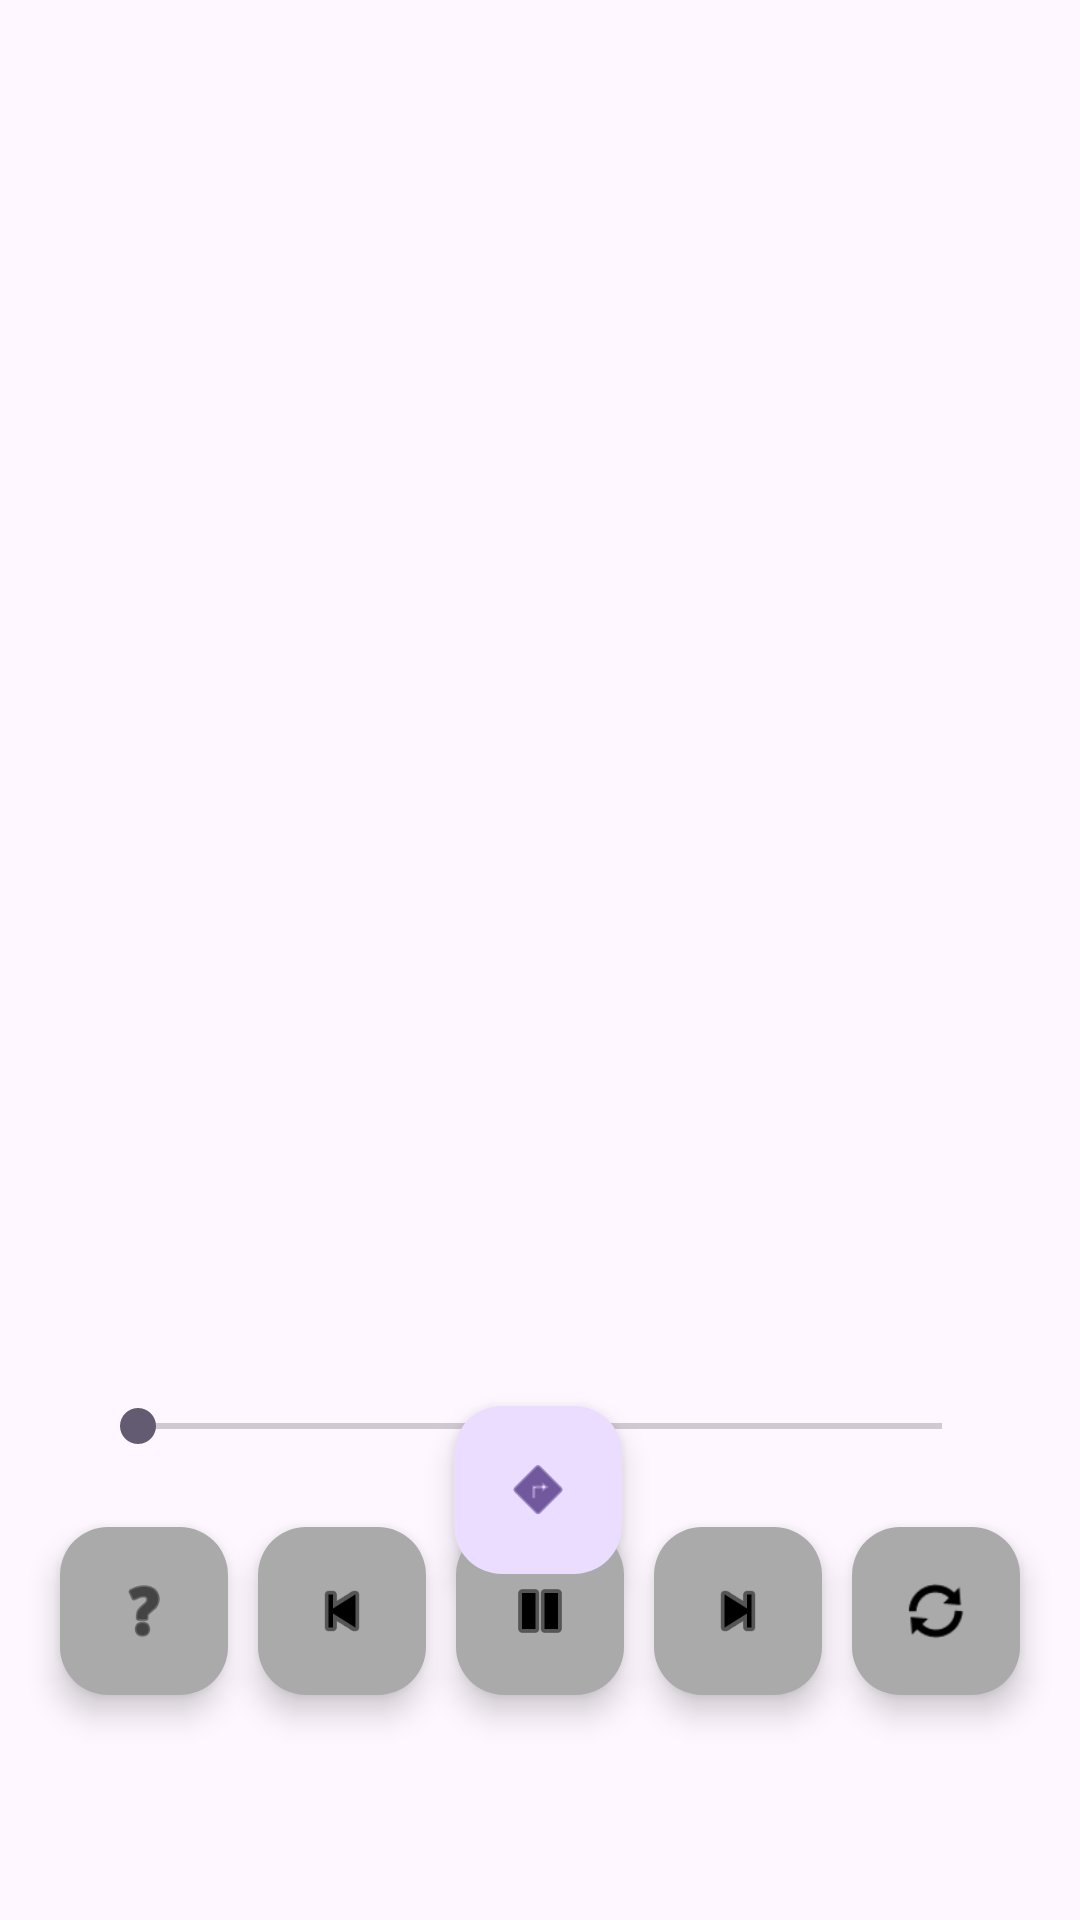

Icon bounding boxes for this 1080px×1920px phone screenshot, format (x1, y1, x2, y2):
directions: (454, 1406, 622, 1574)
help: (60, 1527, 228, 1695)
next: (654, 1527, 822, 1695)
pause: (456, 1549, 624, 1695)
popup sync: (852, 1527, 1020, 1695)
previous: (258, 1527, 426, 1695)
